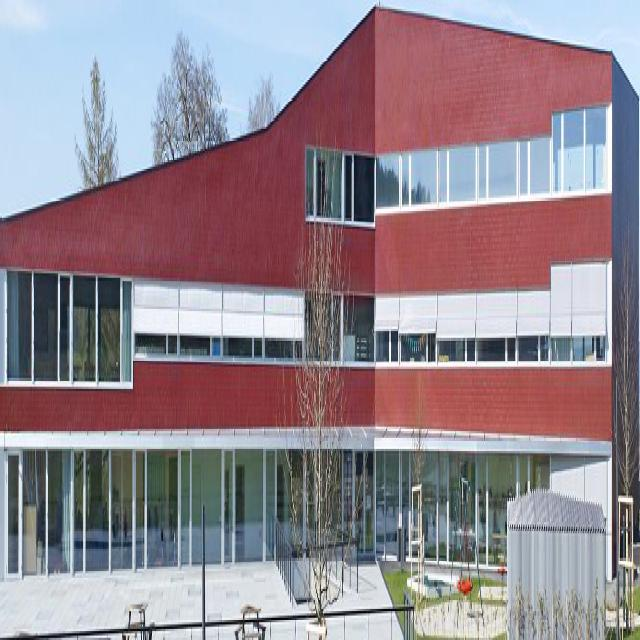window: (8, 428, 554, 568), (8, 267, 611, 392), (306, 95, 606, 230)
